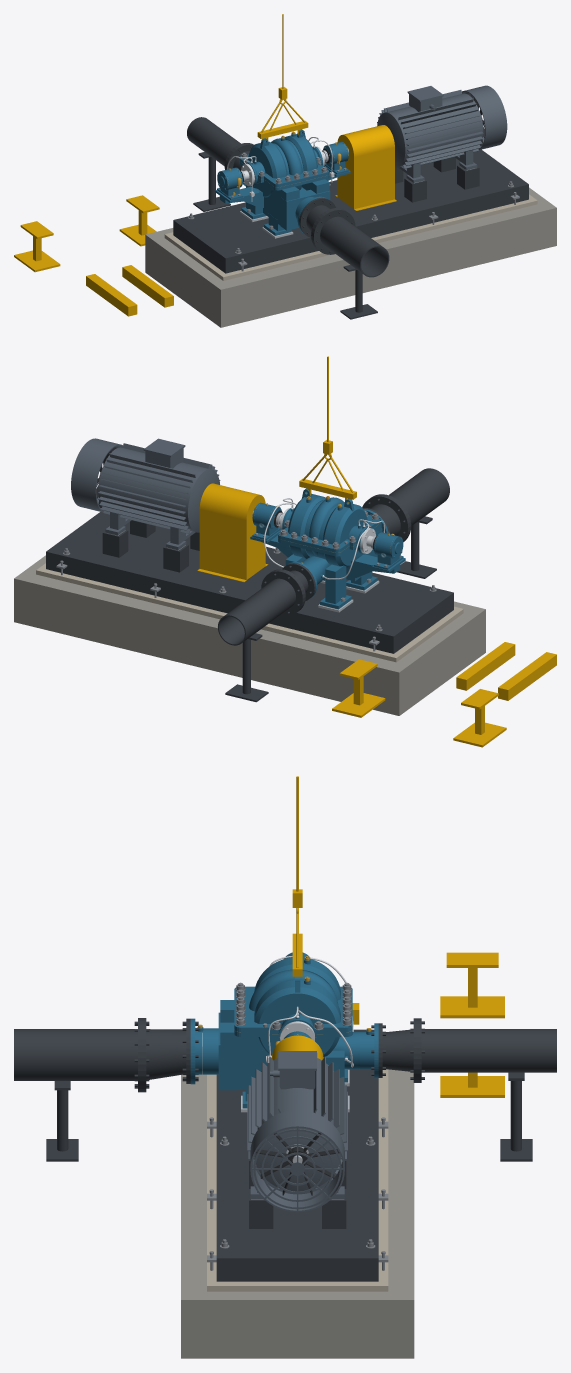
3 views of the same model, one above another, from view 1: azimuth 30°, elevation 25°; view 2: azimuth 150°, elevation 25°; view 3: azimuth 270°, elevation 25° (orthographic). The views are drawn at different scales.
Visible parts, largest first — view 1: foundation, baseplate, motor-frame, coupling-guard, rotor-stands, suction-pipe, grout, casing-upper, casing-lower, pipe-supports, motor-fan-cover, discharge-pipe (+10 smaller); view 2: foundation, baseplate, motor-frame, coupling-guard, rotor-stands, grout, discharge-pipe, casing-upper, suction-pipe, pipe-supports, motor-fan-cover, motor-mounting-pads (+11 smaller); view 3: foundation, baseplate, motor-frame, suction-pipe, discharge-pipe, grout, motor-fan-cover, casing-lower, casing-upper, rotor-stands, pipe-supports, suction-reducer (+9 smaller).
Boxes of the visible parts, x1,y1,x2,y2 form: foundation: [145, 187, 556, 327]; baseplate: [173, 149, 528, 273]; motor-frame: [377, 90, 483, 168]; coupling-guard: [335, 125, 396, 210]; rotor-stands: [14, 195, 173, 316]; suction-pipe: [312, 209, 389, 277]; grout: [164, 194, 537, 280]; casing-upper: [248, 133, 317, 178]; casing-lower: [254, 179, 330, 230]; pipe-supports: [193, 146, 377, 319]; motor-fan-cover: [462, 85, 507, 149]; discharge-pipe: [187, 117, 253, 169]; foundation: [14, 555, 485, 715]; baseplate: [46, 512, 453, 653]; motor-frame: [98, 443, 220, 533]; coupling-guard: [197, 483, 268, 582]; rotor-stands: [332, 642, 556, 747]; grout: [36, 563, 463, 662]; discharge-pipe: [218, 570, 304, 645]; casing-upper: [288, 494, 367, 544]; suction-pipe: [371, 468, 449, 541]; pipe-supports: [225, 499, 436, 702]; motor-fan-cover: [71, 438, 122, 512]; motor-mounting-pads: [102, 520, 199, 572]; foundation: [181, 1047, 414, 1358]; baseplate: [216, 1029, 378, 1281]; motor-frame: [247, 1053, 347, 1191]; suction-pipe: [14, 1018, 141, 1092]; discharge-pipe: [417, 1018, 556, 1082]; grout: [207, 1069, 388, 1291]; motor-fan-cover: [250, 1110, 344, 1212]; casing-lower: [203, 1000, 359, 1090]; casing-upper: [249, 957, 340, 1026]; rotor-stands: [352, 952, 504, 1097]; pipe-supports: [46, 1021, 532, 1161]; suction-reducer: [142, 1018, 190, 1092].
Size of the model in its own units: 4.82 by 2.75 by 3.35.
